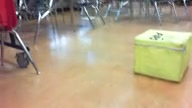cube: (134, 28, 192, 85)
